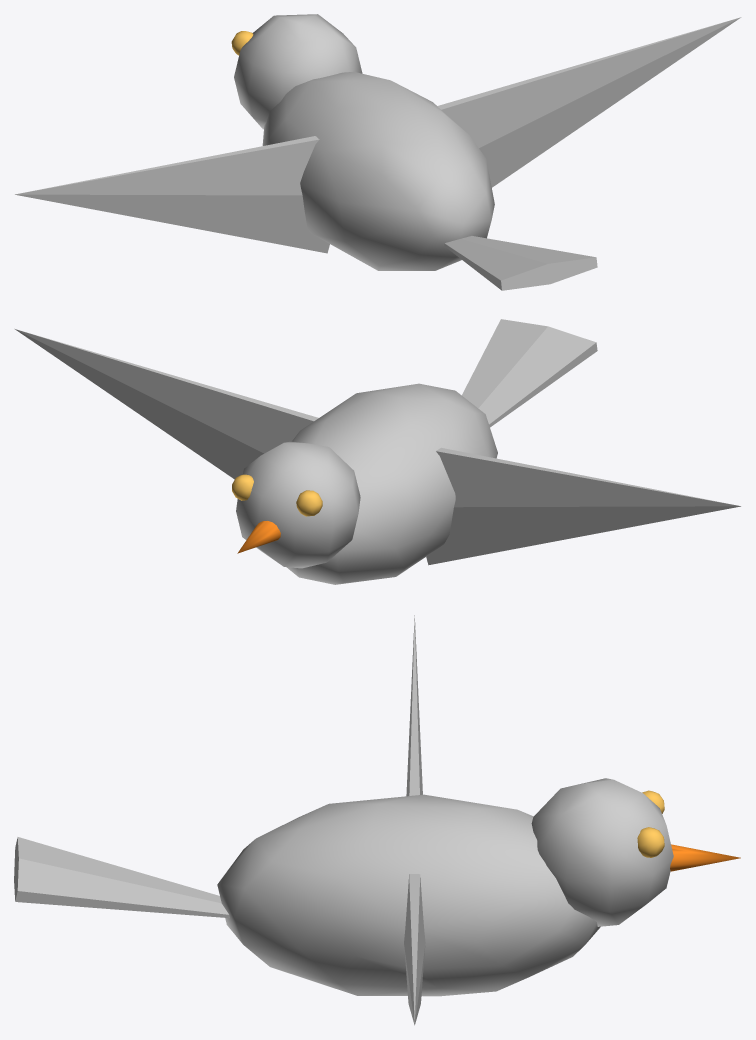
The model's file is HarvestCrow.obj.
3 renders of one model, top to bottom at view 1: azimuth 30°, elevation 25°; view 2: azimuth 150°, elevation 25°; view 3: azimuth 270°, elevation 25°, orthographic. The views are drawn at different scales.
Visible parts, largest first — view 1: Crow, WingRCrow, WingLCrow; view 2: Crow, WingRCrow, WingLCrow, Glow, Beak; view 3: Crow, WingLCrow, WingRCrow, Beak, Glow.
Part boxes in pixels (box(x1,y1,x2,y2)): Crow: box(234, 14, 597, 290); WingRCrow: box(15, 136, 329, 253); WingLCrow: box(437, 17, 741, 187); Crow: box(236, 319, 597, 584); WingRCrow: box(426, 447, 740, 565); WingLCrow: box(15, 329, 318, 479); Glow: box(232, 474, 322, 516); Beak: box(237, 521, 280, 553); Crow: box(14, 778, 673, 996); WingLCrow: box(404, 874, 425, 1025); WingRCrow: box(406, 615, 422, 796); Beak: box(670, 844, 740, 871); Glow: box(637, 790, 664, 857).
Bounding box in the file's own units: 1.58 × 0.3595 × 1.18.
